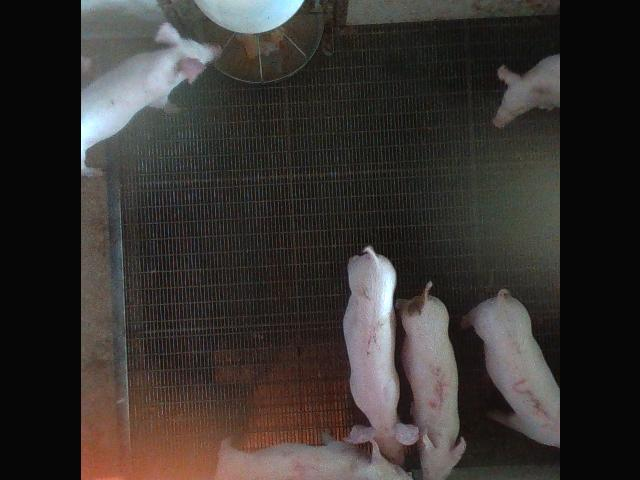pig-3: (461, 289, 560, 448)
pig-4: (215, 440, 414, 480)
pig-5: (396, 281, 465, 480)
